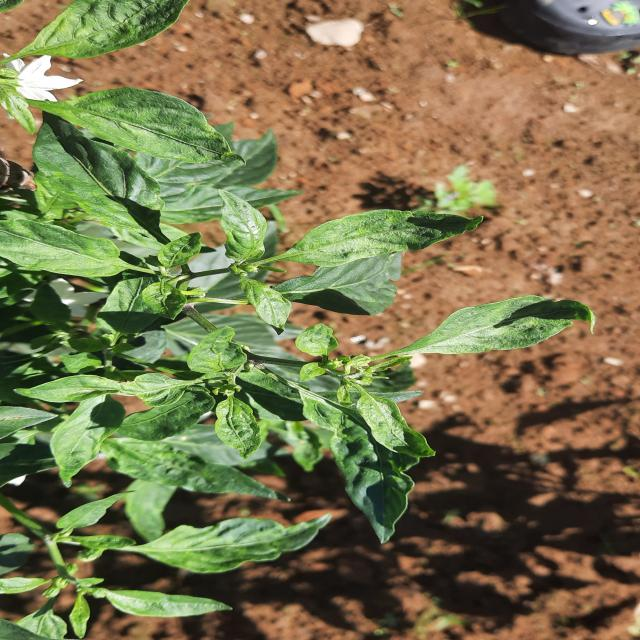thrips: (139, 508, 347, 574), (278, 206, 484, 264), (99, 437, 276, 501), (424, 296, 603, 352)
